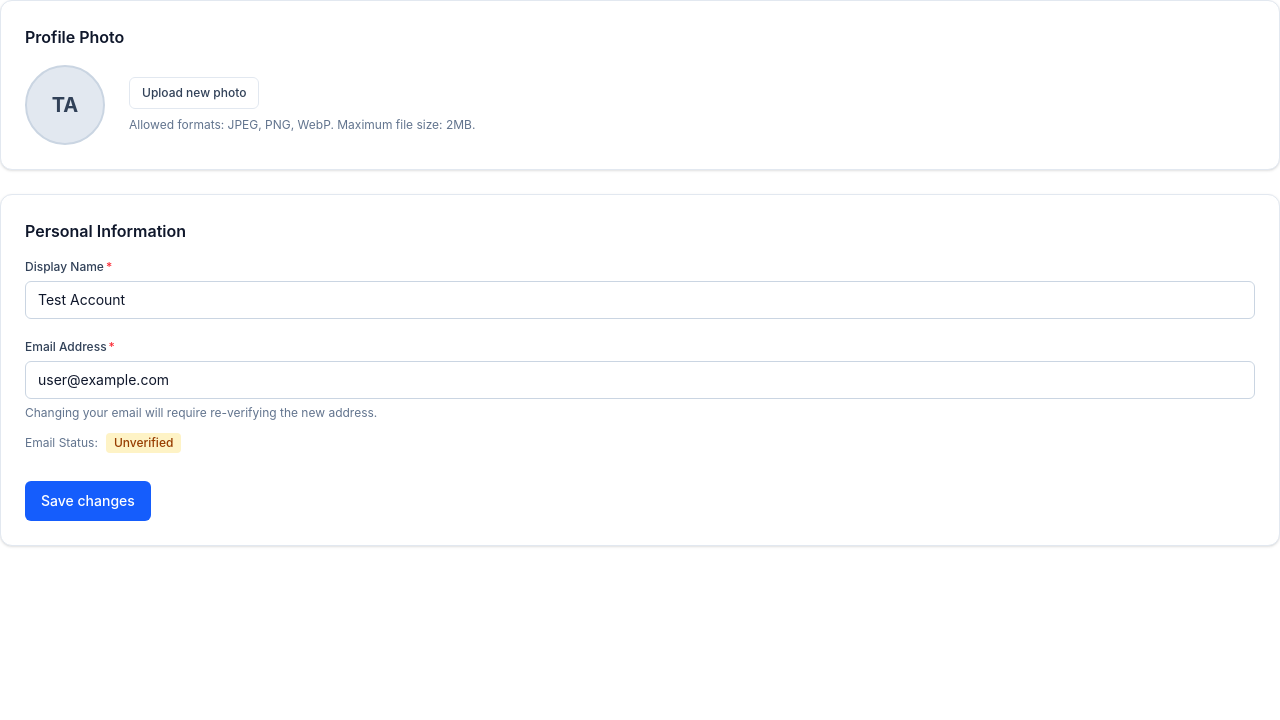
Test case: Phase 2 M2 Account Lifecycle Frontend Tests › ProfileSettingsPage › renders profile details, initials fallback, and handles profile save
Expected: the text with test id "user-avatar-initials" reads "TA", top-left (52, 93), bottom-right (78, 117)
Expected: the field with test id "profile-email-input" holds "user@example.com", top-left (25, 361), bottom-right (1255, 399)
Step 1. Replace the text in the field with test id "profile-display-name-input" with "Renamed Account" → [640, 300], box top-left (25, 281), bottom-right (1255, 319)
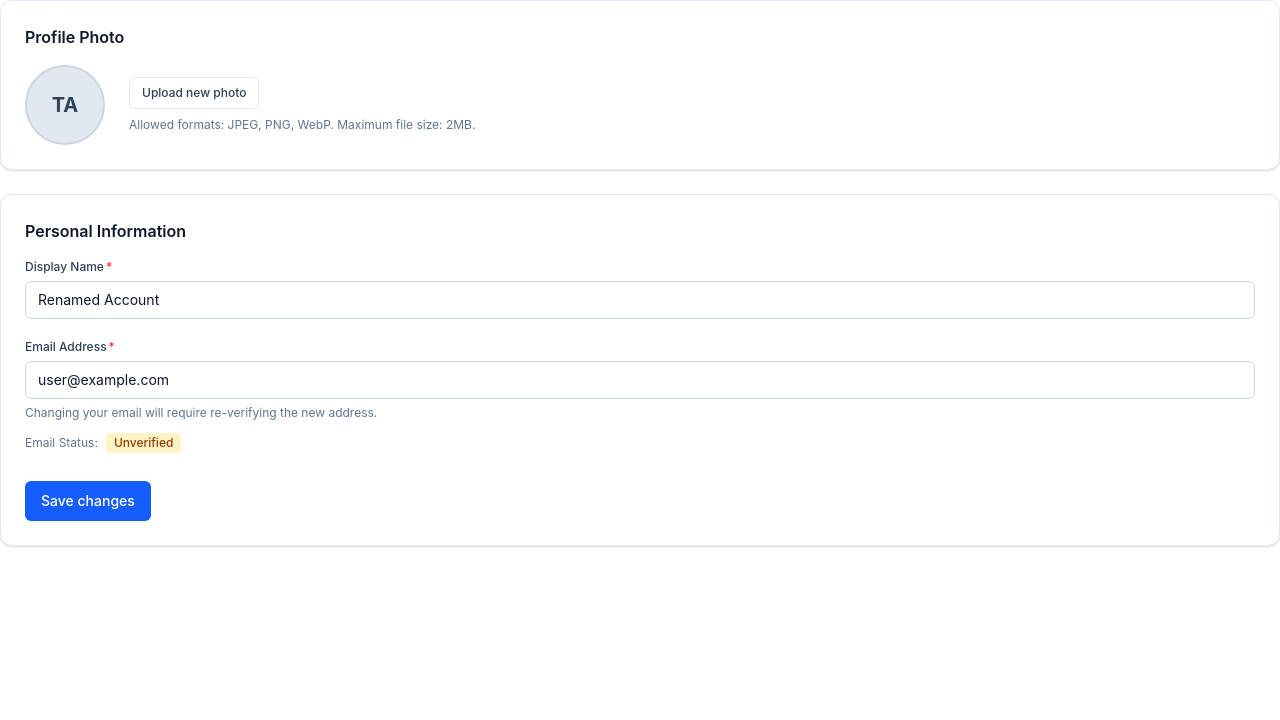
Step 2. Click the button with test id "save-profile-button" → [88, 501], box top-left (25, 481), bottom-right (151, 521)
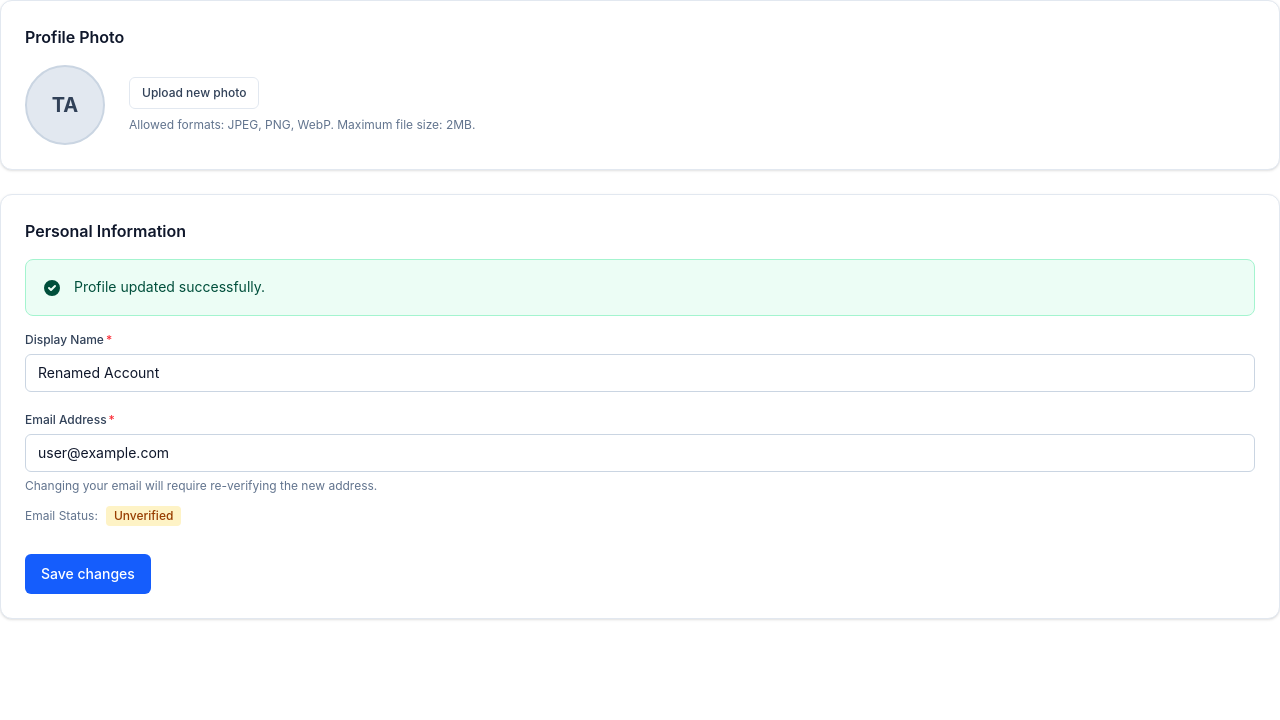
Result: the message "Profile updated successfully." is shown at top-left (25, 259), bottom-right (1255, 316)
